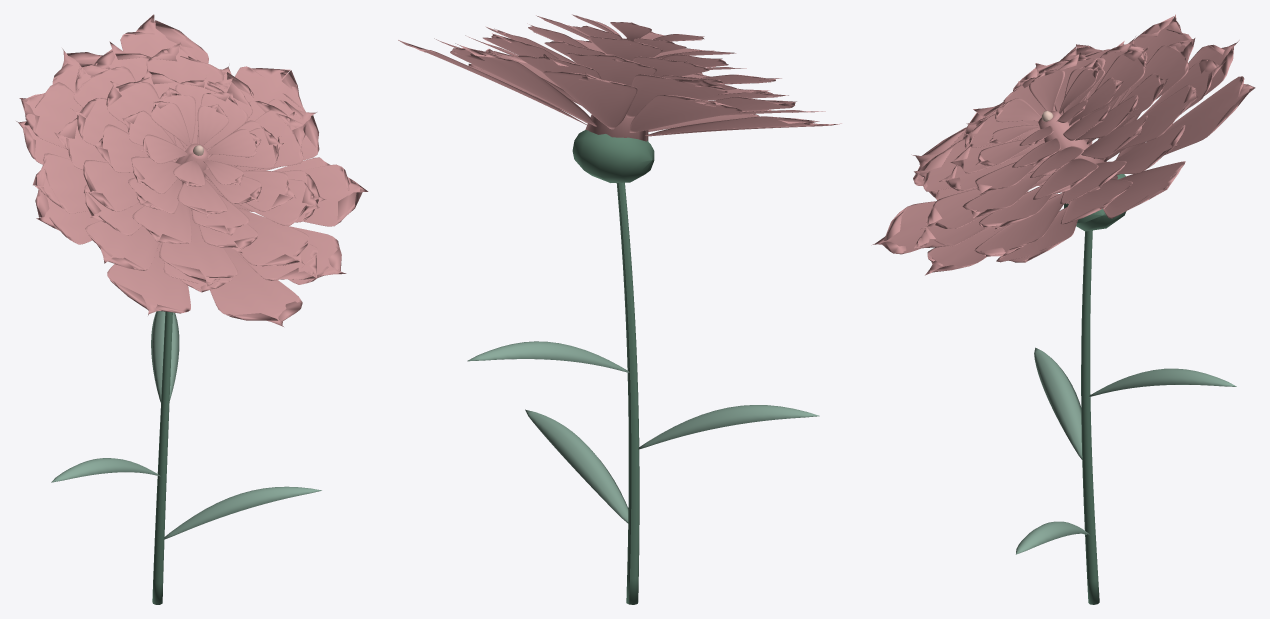
The model's file is carnation-legendary-v2.glb.
3 renders of one model, left to right at view 1: azimuth 30°, elevation 25°; view 2: azimuth 150°, elevation 25°; view 3: azimuth 270°, elevation 25°, orthographic. The views are drawn at different scales.
Visible parts, largest first — view 1: carnation-legendary-v2-petal, carnation-legendary-v2-leaf, carnation-legendary-v2-stem; view 2: carnation-legendary-v2-petal, carnation-legendary-v2-stem, carnation-legendary-v2-leaf; view 3: carnation-legendary-v2-petal, carnation-legendary-v2-leaf, carnation-legendary-v2-stem.
Part boxes in pixels (left/top/right/bottom): carnation-legendary-v2-petal: left=16, top=14, right=368, bottom=326; carnation-legendary-v2-leaf: left=51, top=311, right=321, bottom=539; carnation-legendary-v2-stem: left=152, top=311, right=172, bottom=604; carnation-legendary-v2-petal: left=398, top=14, right=841, bottom=141; carnation-legendary-v2-stem: left=572, top=130, right=654, bottom=604; carnation-legendary-v2-leaf: left=467, top=341, right=819, bottom=523; carnation-legendary-v2-petal: left=871, top=14, right=1255, bottom=275; carnation-legendary-v2-leaf: left=1016, top=347, right=1236, bottom=554; carnation-legendary-v2-stem: left=1064, top=174, right=1126, bottom=604.
Size of the model in its own units: 1.14 by 1.82 by 1.15.
